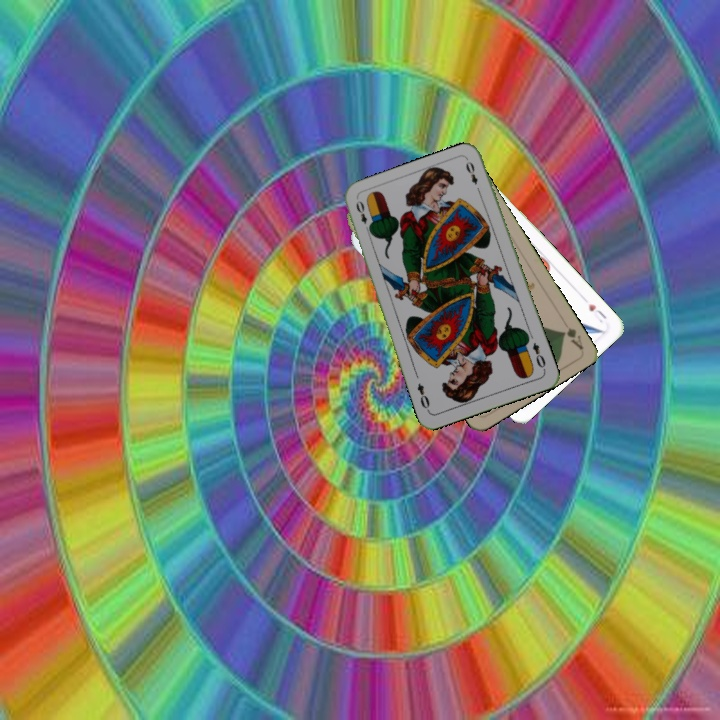EO: (352, 197, 374, 235), (528, 338, 548, 373)
GA: (558, 323, 586, 352)
HU: (584, 299, 609, 325)
